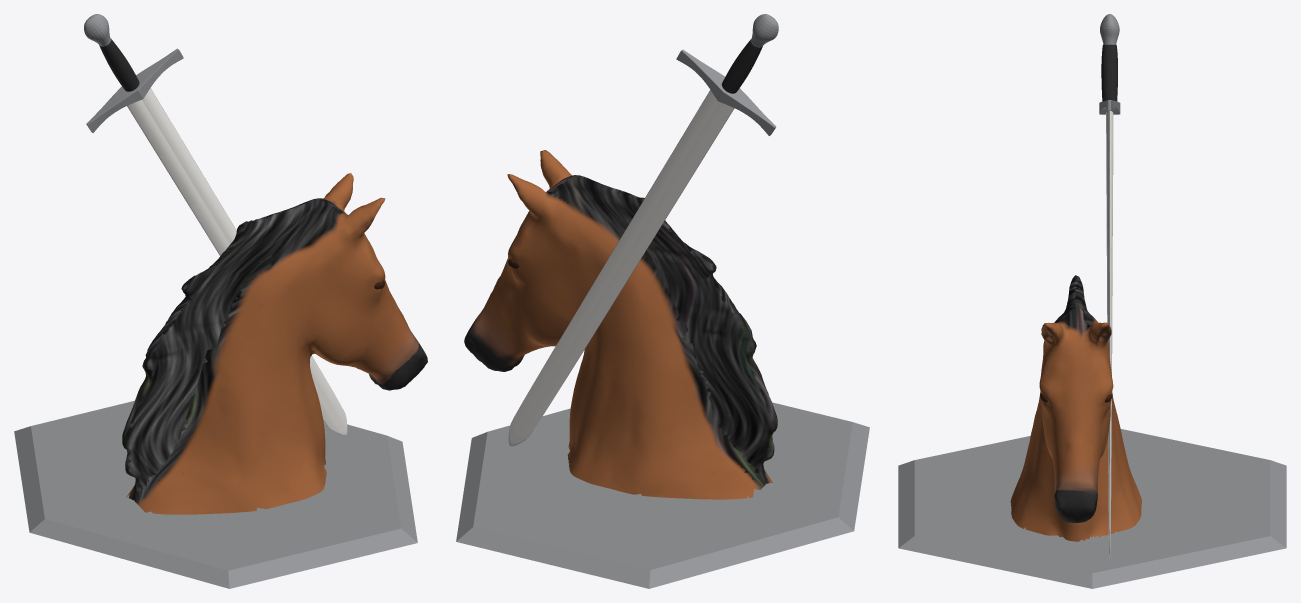
Rendered from Calvalry Melee.fbx.
The picture shows the model from 3 angles, left to right: view 1: azimuth 30°, elevation 25°; view 2: azimuth 150°, elevation 25°; view 3: azimuth 270°, elevation 25°; orthographic projection. The views are drawn at different scales.
Visible parts, largest first — view 1: Piece Base.006; view 2: Piece Base.006; view 3: Piece Base.006.
Boxes of the visible parts, box(x1,y1,x2,y2) form: Piece Base.006: box(14, 14, 427, 588); Piece Base.006: box(456, 14, 869, 588); Piece Base.006: box(898, 14, 1286, 588).
Size of the model in its own units: 101 by 125 by 99.
